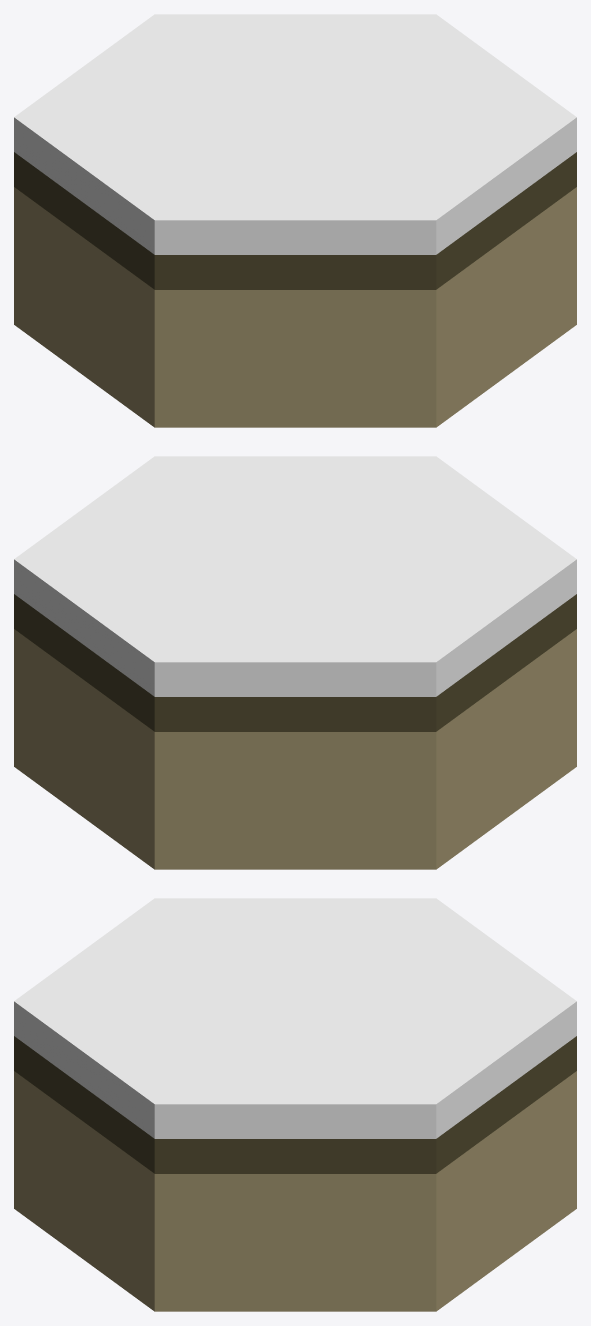
File: snow.fbx
3 renders of one model, top to bottom at view 1: azimuth 30°, elevation 25°; view 2: azimuth 150°, elevation 25°; view 3: azimuth 270°, elevation 25°, orthographic.
Visible parts, largest first — view 1: Cylinder.004; view 2: Cylinder.004; view 3: Cylinder.004.
Part boxes in pixels (box(x1,y1,x2,y2)): Cylinder.004: box(14, 14, 576, 427); Cylinder.004: box(14, 456, 576, 869); Cylinder.004: box(14, 898, 576, 1311).
Size of the model in its own units: 173 by 81.3 by 200.
